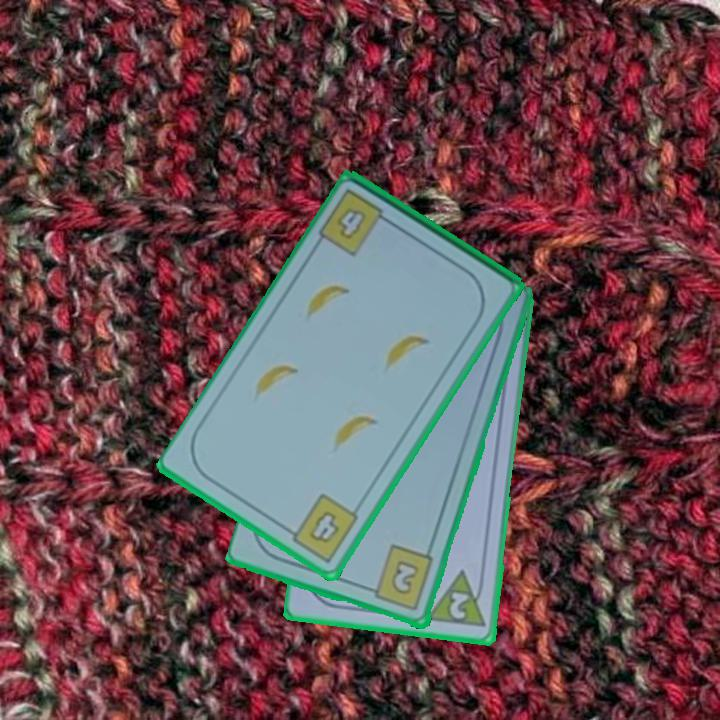2b: (363, 542, 437, 614)
2p: (424, 568, 489, 631)
4b: (281, 490, 362, 566), (315, 185, 397, 259)
